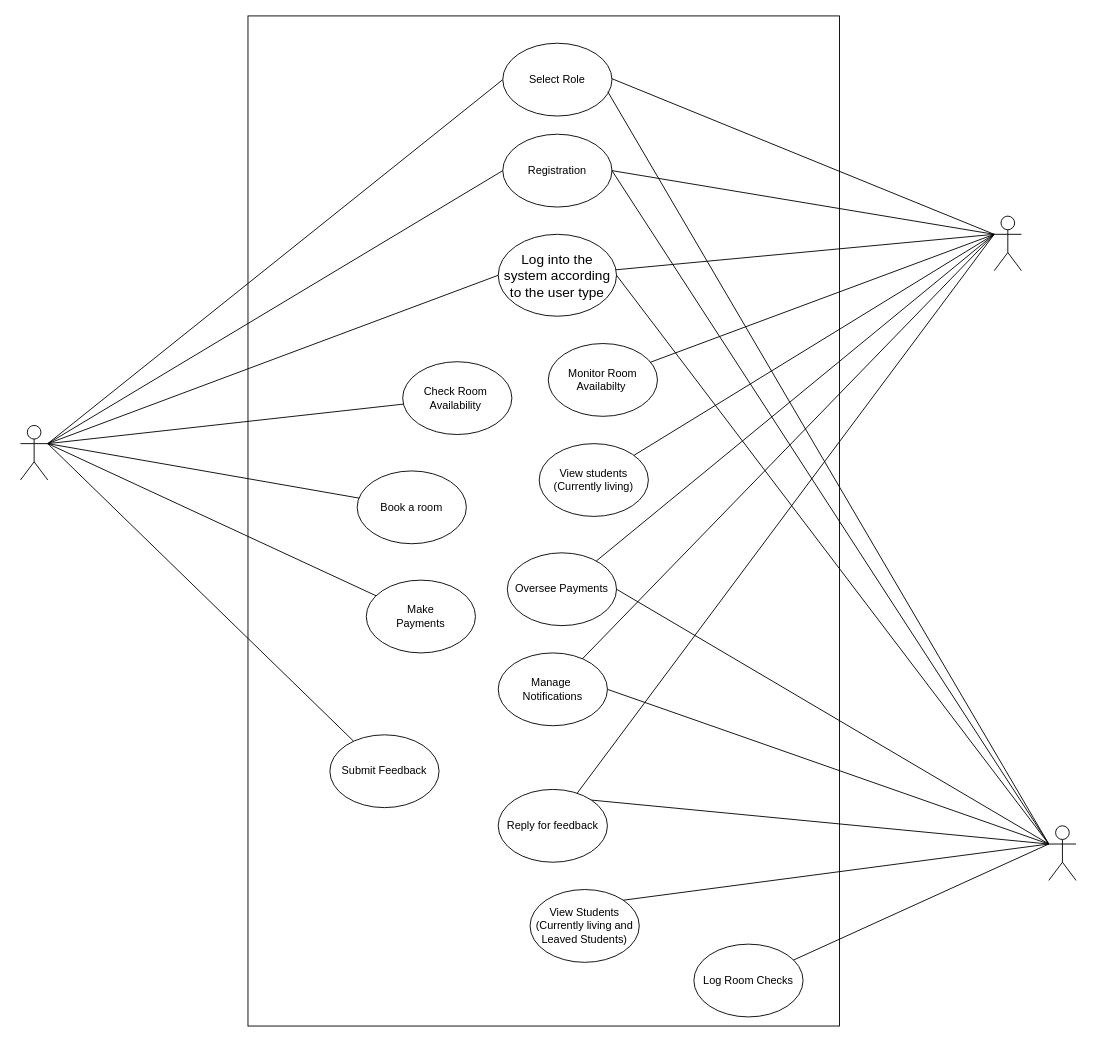
Some shapes in this 1097 by 1042 pixel diagram are drawn without their labels. Each missing label, with the centre of its shape:
"Admin" goes at point (1007, 243).
"Student" goes at point (34, 452).
"Warden" goes at point (1062, 852).
